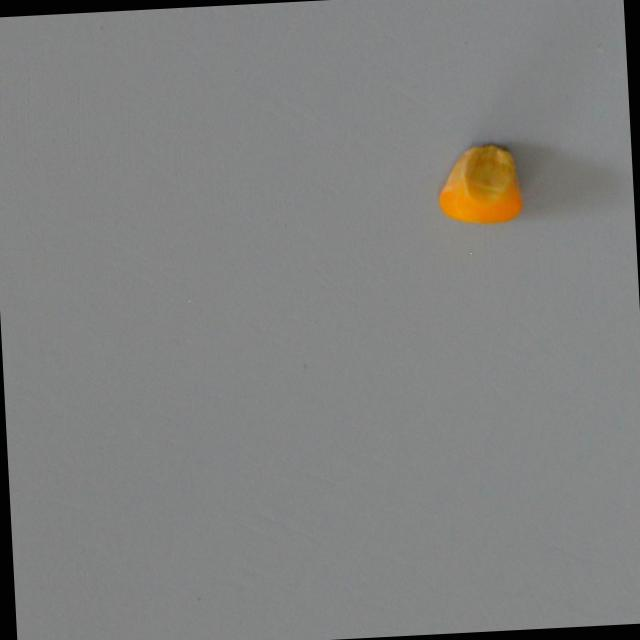dañado: (429, 138, 528, 233)
